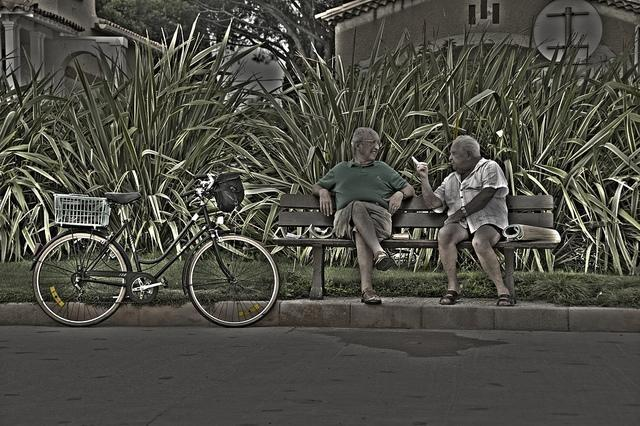bicycle: (32, 171, 276, 325)
